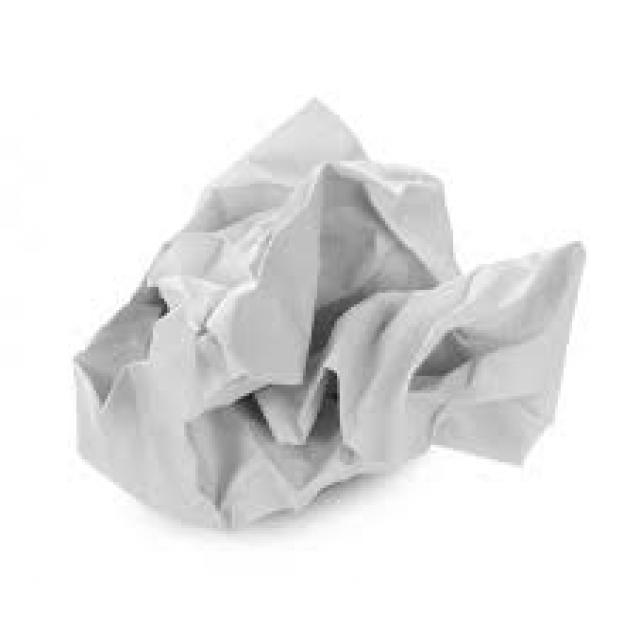Papel: (71, 97, 580, 531)
